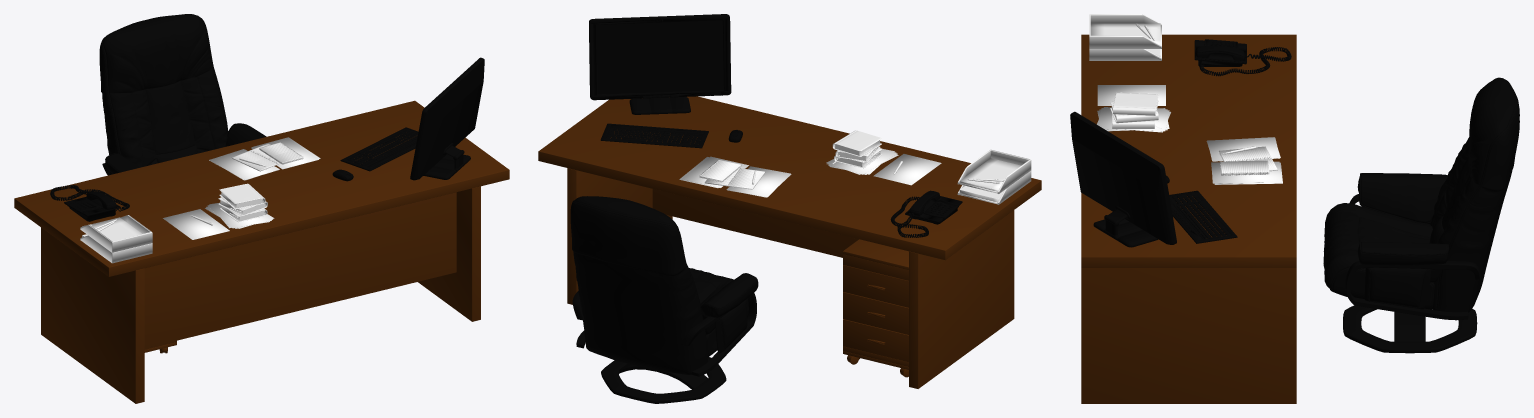
File: Oficina.fbx
3 renders of one model, left to right at view 1: azimuth 30°, elevation 25°; view 2: azimuth 150°, elevation 25°; view 3: azimuth 270°, elevation 25°, orthographic. The views are drawn at different scales.
Visible parts, largest first — view 1: Office_Desk_obj_cleaner_materialmerger_gles; view 2: Office_Desk_obj_cleaner_materialmerger_gles; view 3: Office_Desk_obj_cleaner_materialmerger_gles.
Part boxes in pixels (x1,y1,x2,y2): Office_Desk_obj_cleaner_materialmerger_gles: (14,14,509,403); Office_Desk_obj_cleaner_materialmerger_gles: (538,14,1041,403); Office_Desk_obj_cleaner_materialmerger_gles: (1070,14,1519,403).
Bounding box in the file's own units: 56241 × 30000 × 46888.
